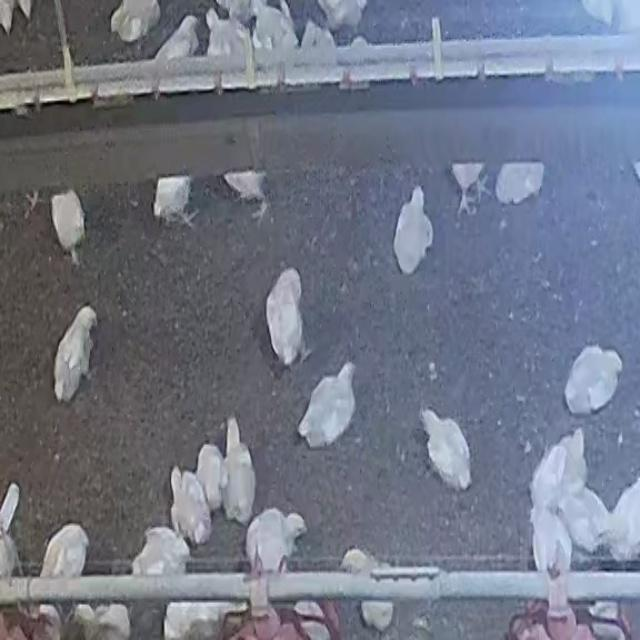chicken: (299, 363, 357, 449), (51, 306, 100, 406), (264, 266, 310, 364), (419, 407, 472, 491), (340, 548, 393, 632), (563, 345, 622, 415), (244, 508, 308, 571), (391, 186, 433, 274), (223, 418, 257, 524), (169, 466, 212, 546), (162, 598, 246, 638), (39, 523, 91, 582), (606, 473, 640, 562), (134, 526, 190, 578), (526, 510, 570, 575), (563, 490, 609, 551), (51, 190, 87, 263), (529, 446, 564, 512), (557, 427, 588, 501), (153, 175, 196, 228), (222, 169, 267, 219), (494, 162, 544, 206), (250, 0, 292, 52), (156, 13, 201, 61), (109, 1, 160, 43), (76, 603, 133, 640), (205, 5, 245, 56), (196, 442, 226, 509), (0, 480, 20, 577), (451, 163, 487, 215), (587, 600, 628, 640), (317, 0, 365, 27), (301, 20, 336, 51)
